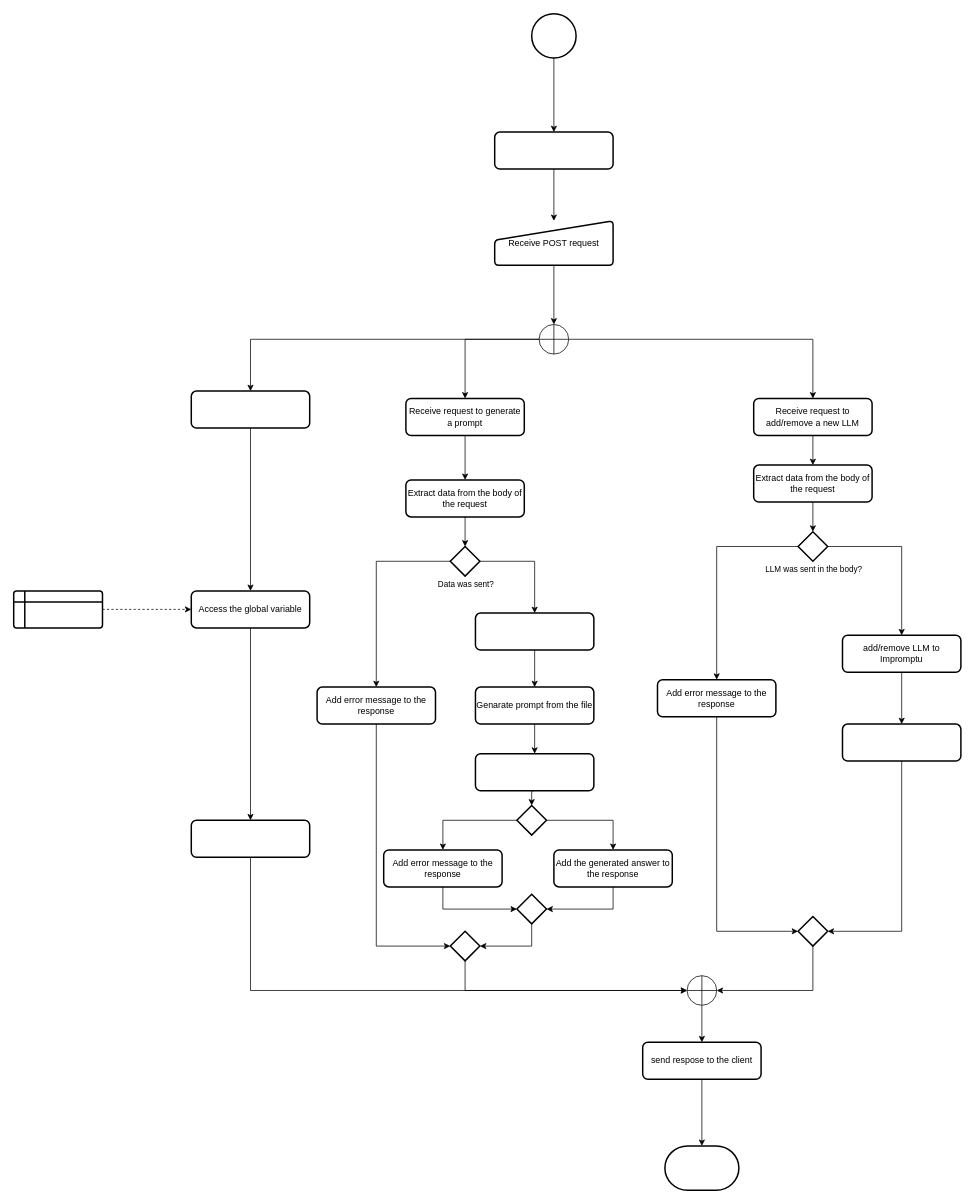
The diagram is 974 pixels wide and 1203 high, and some of its shapes have lost their labels. Here are the shapes that lost their labels. From the top down, the centre of each, then its label:
At point 553,150: "Start the server".
At point 250,409: "Receive request of Impromptu's version".
At point 58,609: "version".
At point 534,631: "Write a temporary file with the data".
At point 901,742: "Add finish message to the response".
At point 534,772: "Delete temp file".
At point 250,838: "Add the version to the response".
